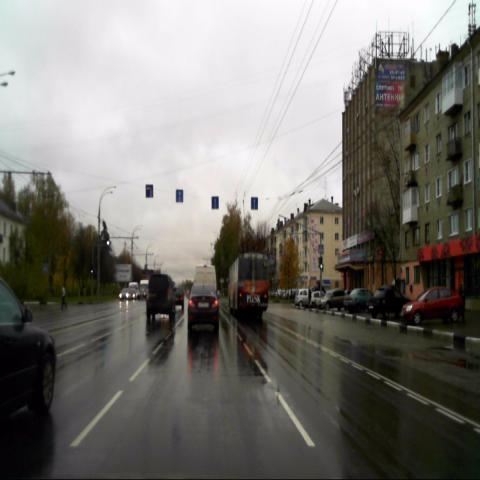5_15_2: (145, 184, 153, 198), (211, 196, 219, 209), (175, 190, 183, 202), (251, 197, 258, 210)
